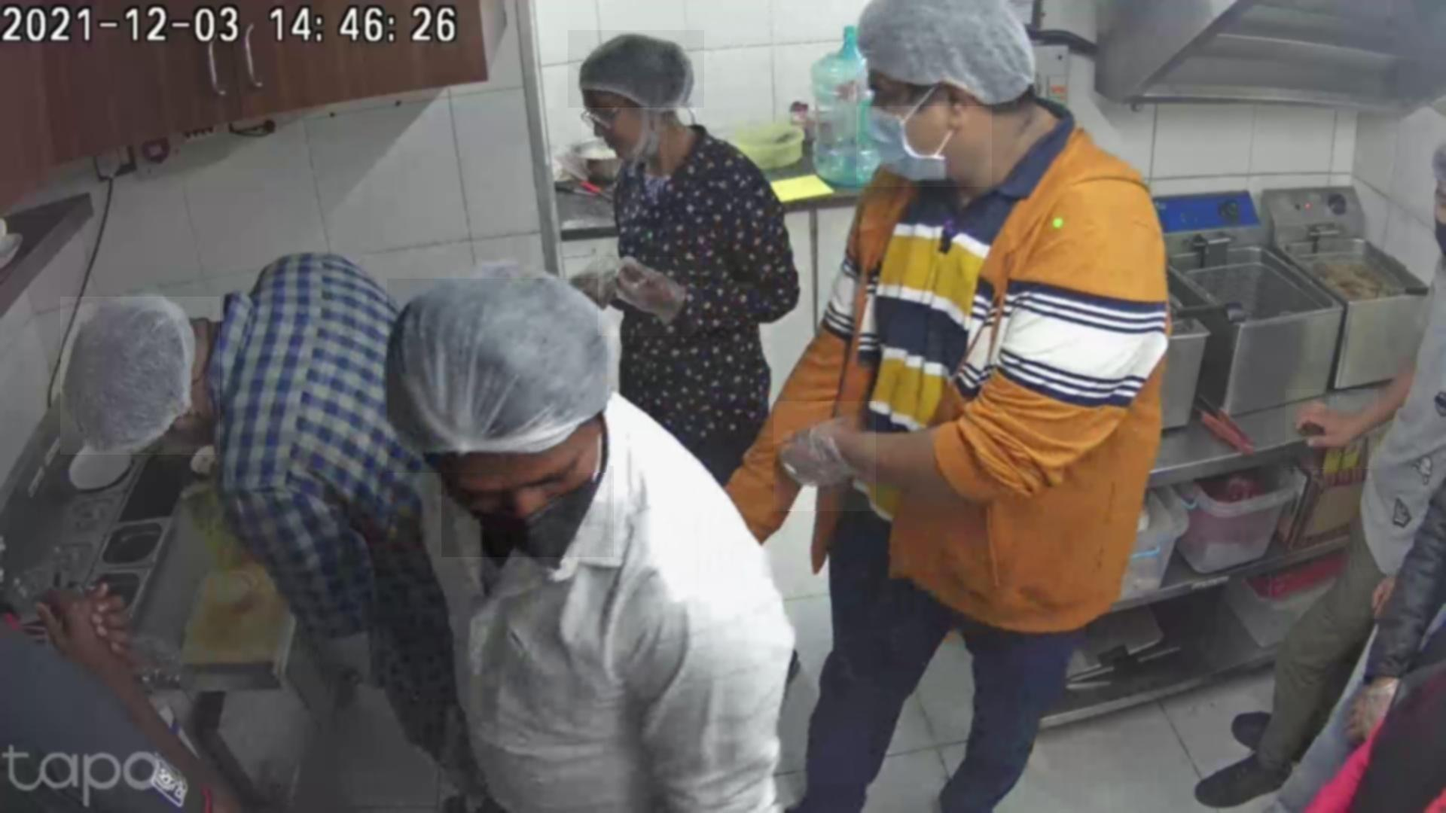apron: (774, 402, 877, 512), (598, 257, 703, 336), (1336, 666, 1417, 758)
gloves: (387, 279, 607, 473), (61, 297, 221, 455), (850, 1, 1057, 107), (568, 31, 704, 108)
mask: (442, 467, 615, 558), (857, 96, 993, 187)
no_apron: (1286, 390, 1379, 470), (1362, 568, 1411, 619)
no_hairnet: (582, 98, 668, 158)
